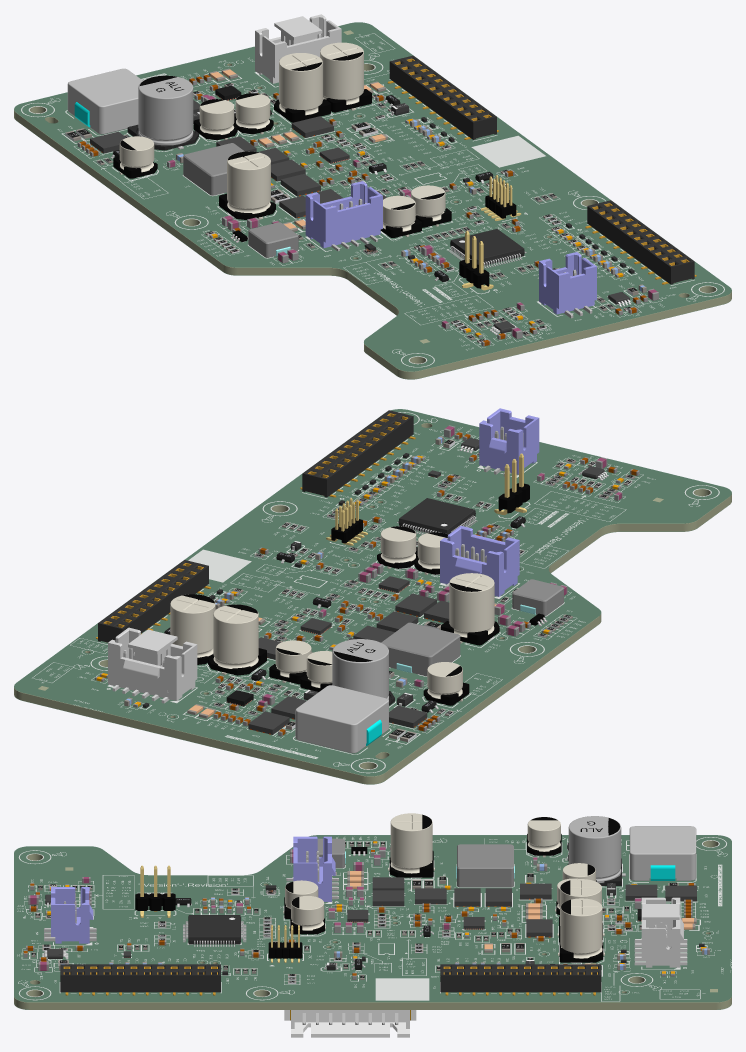
The model's file is mynd_main.glb.
The picture shows the model from 3 angles, top to bottom: view 1: azimuth 30°, elevation 25°; view 2: azimuth 150°, elevation 25°; view 3: azimuth 270°, elevation 25°; orthographic projection. The views are drawn at different scales.
Parts seen in each view (by area): view 1: =>[0:1:1:45], =>[0:1:1:47], =>[0:1:1:43], NAUO1 (×2), =>[0:1:1:1] (×3), P4M, NAUO3, P5M, C4E, C12B, P6M, C10B (+10 smaller); view 2: =>[0:1:1:45], =>[0:1:1:47], =>[0:1:1:43], =>[0:1:1:1] (×3), NAUO1 (×2), P5M, P4M, C12B, P6M, C4E, NAUO3, C10B (+10 smaller); view 3: =>[0:1:1:45], =>[0:1:1:47], =>[0:1:1:43], =>[0:1:1:1] (×4), NAUO1 (×2), BODY-SON (×9), P5M, NAUO3, C10B, C4E, P6M, P4M (+9 smaller).
Part boxes in pixels (<box>): =>[0:1:1:45]: <box>14,22,731,371</box>; =>[0:1:1:47]: <box>14,23,731,379</box>; =>[0:1:1:43]: <box>21,33,724,367</box>; NAUO1 (×2): <box>389,55,694,284</box>; =>[0:1:1:1] (×3): <box>67,68,298,257</box>; P4M: <box>305,181,382,251</box>; NAUO3: <box>138,75,193,145</box>; P5M: <box>255,14,341,83</box>; C4E: <box>219,151,275,219</box>; C12B: <box>274,53,330,122</box>; P6M: <box>539,252,596,318</box>; C10B: <box>320,42,371,112</box>; =>[0:1:1:45]: <box>14,409,731,776</box>; =>[0:1:1:47]: <box>14,410,731,784</box>; =>[0:1:1:43]: <box>32,412,719,773</box>; =>[0:1:1:1] (×3): <box>295,579,563,753</box>; NAUO1 (×2): <box>98,410,413,642</box>; P5M: <box>108,627,197,703</box>; P4M: <box>440,526,519,596</box>; C12B: <box>208,604,266,675</box>; P6M: <box>479,408,539,476</box>; C4E: <box>441,573,499,645</box>; NAUO3: <box>332,639,388,699</box>; C10B: <box>170,594,215,664</box>; =>[0:1:1:45]: <box>14,835,731,1002</box>; =>[0:1:1:47]: <box>14,836,731,1009</box>; =>[0:1:1:43]: <box>17,836,731,1001</box>; =>[0:1:1:1] (×4): <box>284,826,696,1037</box>; NAUO1 (×2): <box>60,964,601,992</box>; BODY-SON (×9): <box>372,877,696,937</box>; P5M: <box>634,897,687,967</box>; NAUO3: <box>568,816,621,882</box>; C10B: <box>558,898,604,962</box>; C4E: <box>388,813,434,877</box>; P6M: <box>44,887,96,943</box>; P4M: <box>286,836,338,901</box>.
Bounding box in the file's own units: 0.075 × 0.0179 × 0.136.
